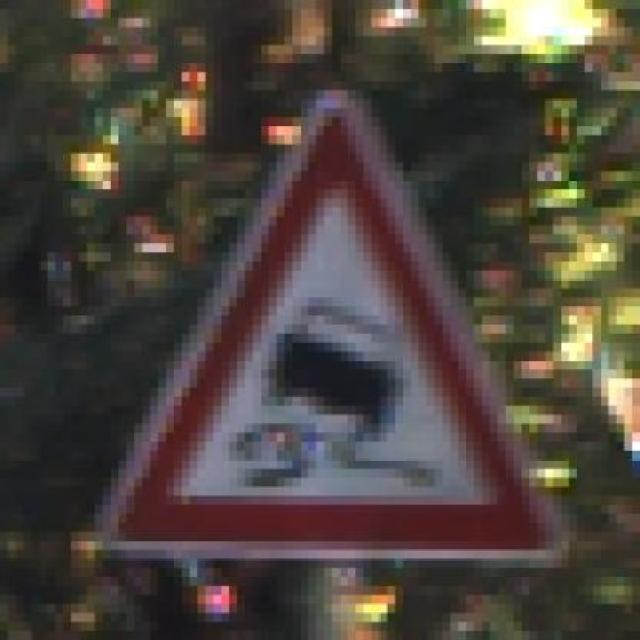Slippery Road Ahead: (71, 71, 569, 568)
